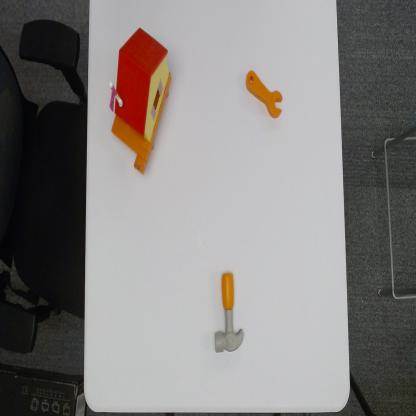Hammer: (214, 270, 245, 355)
House: (108, 24, 173, 176)
Screwdriver: (245, 68, 284, 121)
